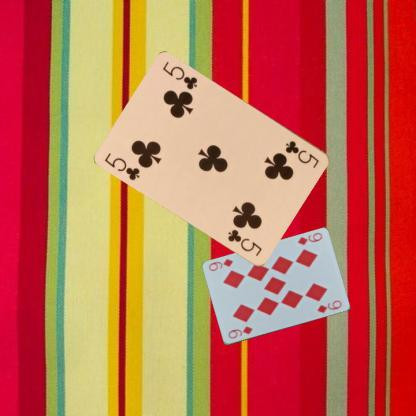5c: (102, 150, 142, 182), (283, 138, 320, 169)
9d: (294, 230, 324, 247), (225, 324, 254, 340)
